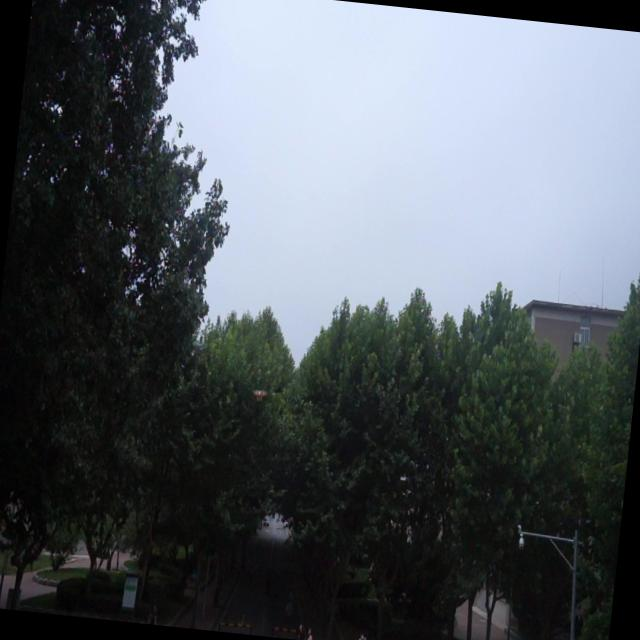drone: (249, 380, 271, 408)
